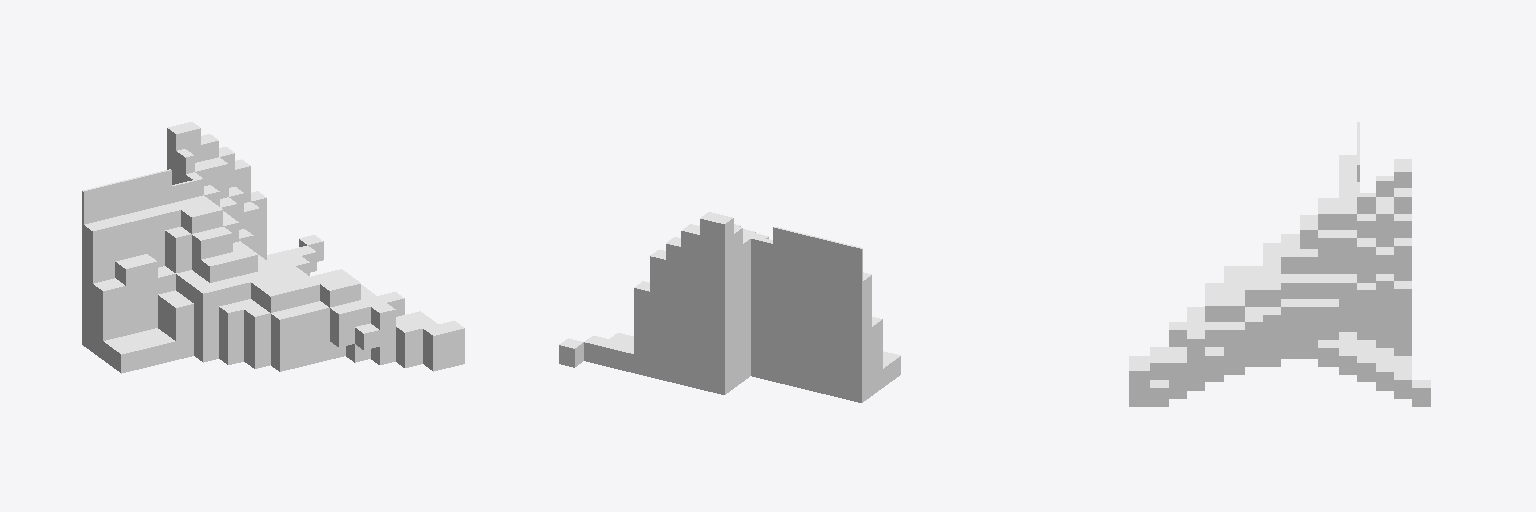
The model's file is MushroomDaddyInterior_01-12.obj.
3 renders of one model, left to right at view 1: azimuth 30°, elevation 25°; view 2: azimuth 150°, elevation 25°; view 3: azimuth 270°, elevation 25°, orthographic.
Visible parts, largest first — view 1: MushroomDaddyInterior_01-12; view 2: MushroomDaddyInterior_01-12; view 3: MushroomDaddyInterior_01-12.
Boxes of the visible parts, <box> form: MushroomDaddyInterior_01-12: <box>82,122,464,373</box>; MushroomDaddyInterior_01-12: <box>559,212,900,402</box>; MushroomDaddyInterior_01-12: <box>1129,122,1430,406</box>.
Bounding box in the file's own units: 118 × 72 × 115.